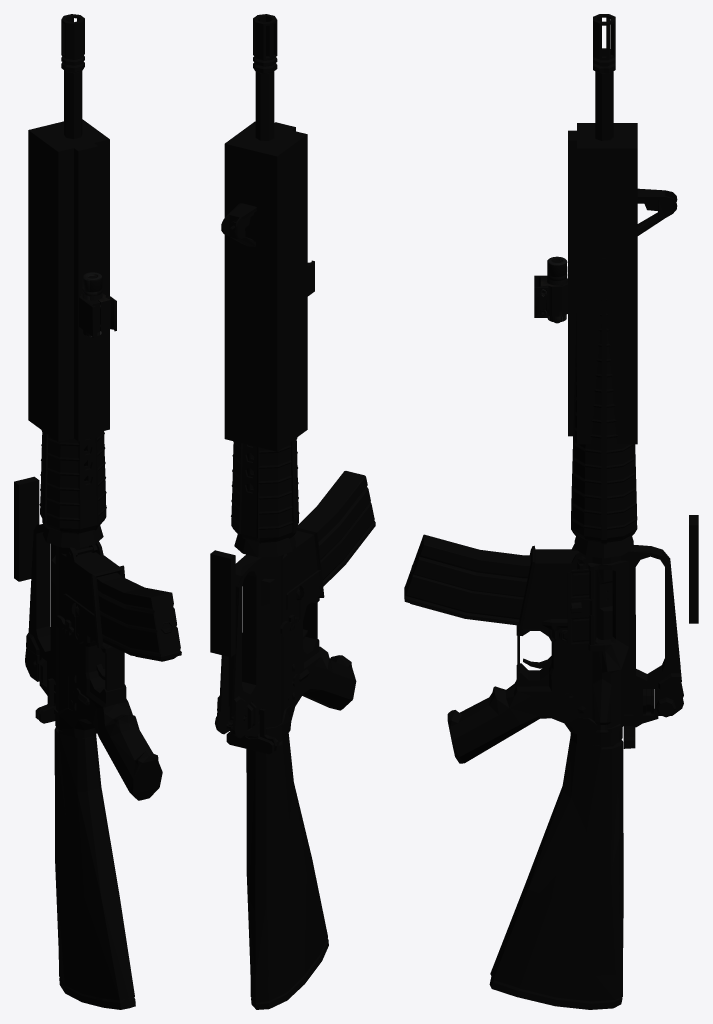
The model's file is M16A2__Handguard_AR_Quad__Light_Pistol__Mount_AR_CarryHandle.fbx.
The picture shows the model from 3 angles, left to right: view 1: azimuth 30°, elevation 25°; view 2: azimuth 150°, elevation 25°; view 3: azimuth 270°, elevation 25°; orthographic projection.
Visible parts, largest first — view 1: asset_M16A2.001; view 2: asset_M16A2.001; view 3: asset_M16A2.001.
Part boxes in pixels (bbox=[...]): asset_M16A2.001: bbox=[14, 14, 181, 1009]; asset_M16A2.001: bbox=[210, 14, 375, 1009]; asset_M16A2.001: bbox=[404, 14, 698, 1009].
Size of the model in its own units: 0.0384 by 0.6 by 0.1624.
